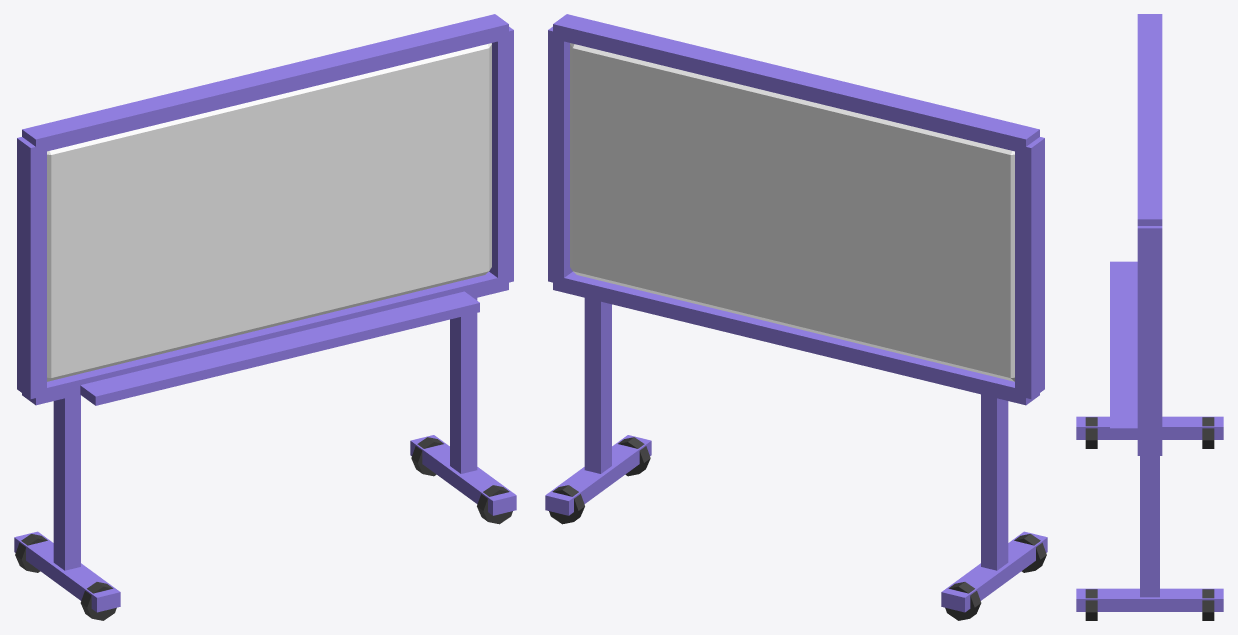
3 views of the same model, side by side, from view 1: azimuth 30°, elevation 25°; view 2: azimuth 150°, elevation 25°; view 3: azimuth 270°, elevation 25° (orthographic). The views are drawn at different scales.
Visible parts, largest first — view 1: Writing surface, Frame rail.001, Marker ledge, Frame upright, Frame rail, Frame upright.001, Stand, Stand.001, Caster beam, Caster beam.001; view 2: Writing surface, Frame rail.001, Frame rail, Frame upright, Frame upright.001, Stand.001, Stand, Caster beam, Caster beam.001; view 3: Frame upright.001, Frame rail.001, Marker ledge, Caster beam.001, Stand.001, Caster beam, Wheel, Wheel.001, Wheel.002, Wheel.003.
Boxes of the visible parts, left/top/right/bottom form: Writing surface: left=47, top=43, right=491, bottom=381; Frame rail.001: left=22, top=14, right=508, bottom=153; Marker ledge: left=80, top=291, right=479, bottom=405; Frame upright: left=17, top=137, right=46, bottom=399; Frame rail: left=22, top=272, right=508, bottom=405; Frame upright.001: left=489, top=26, right=513, bottom=285; Stand: left=53, top=394, right=80, bottom=570; Stand.001: left=450, top=298, right=477, bottom=473; Caster beam: left=14, top=531, right=120, bottom=612; Caster beam.001: left=410, top=435, right=516, bottom=515; Writing surface: left=570, top=43, right=1014, bottom=381; Frame rail.001: left=553, top=14, right=1039, bottom=151; Frame rail: left=553, top=272, right=1039, bottom=405; Frame upright: left=1015, top=137, right=1044, bottom=399; Frame upright.001: left=548, top=26, right=572, bottom=282; Stand.001: left=584, top=298, right=611, bottom=473; Stand: left=981, top=394, right=1008, bottom=570; Caster beam: left=941, top=531, right=1047, bottom=612; Caster beam.001: left=545, top=435, right=651, bottom=515; Frame upright.001: left=1137, top=226, right=1162, bottom=451; Frame rail.001: left=1137, top=14, right=1162, bottom=225; Marker ledge: left=1110, top=261, right=1137, bottom=436; Caster beam.001: left=1076, top=588, right=1223, bottom=611; Stand.001: left=1140, top=456, right=1159, bottom=597; Caster beam: left=1076, top=416, right=1223, bottom=439; Wheel: left=1085, top=417, right=1097, bottom=448; Wheel.001: left=1202, top=417, right=1214, bottom=448; Wheel.002: left=1085, top=589, right=1097, bottom=620; Wheel.003: left=1202, top=589, right=1214, bottom=620.
Size of the model in its own units: 162 by 150 by 48.
